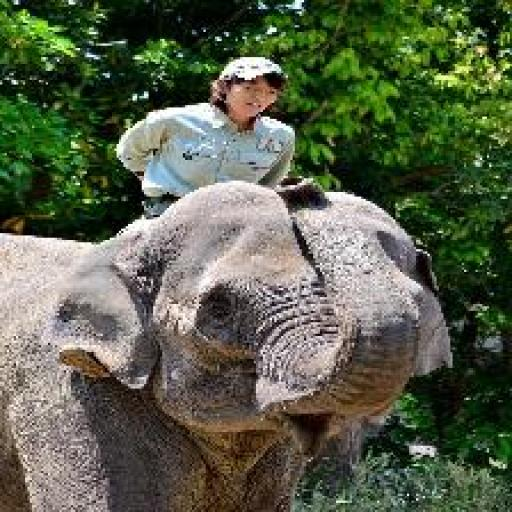Elephant: (0, 178, 453, 510)
